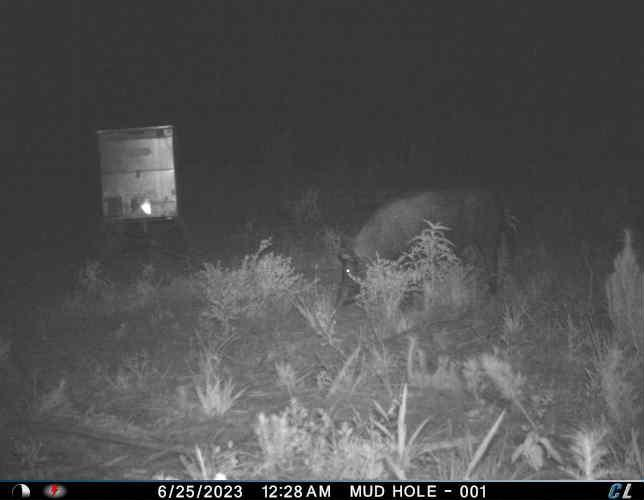Hog: (336, 180, 517, 307)
